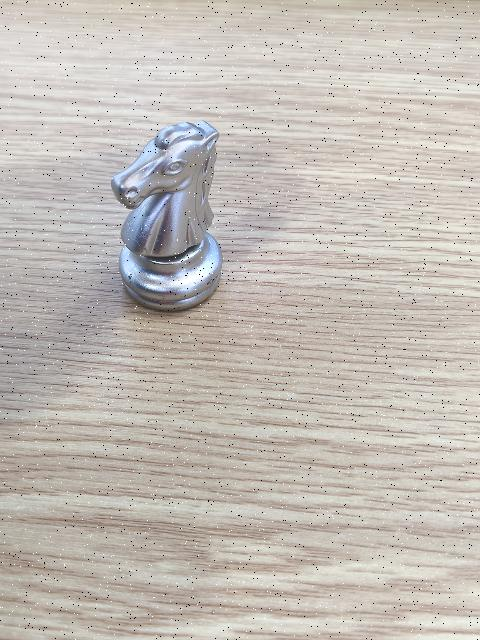white_knight: (105, 114, 232, 313)
